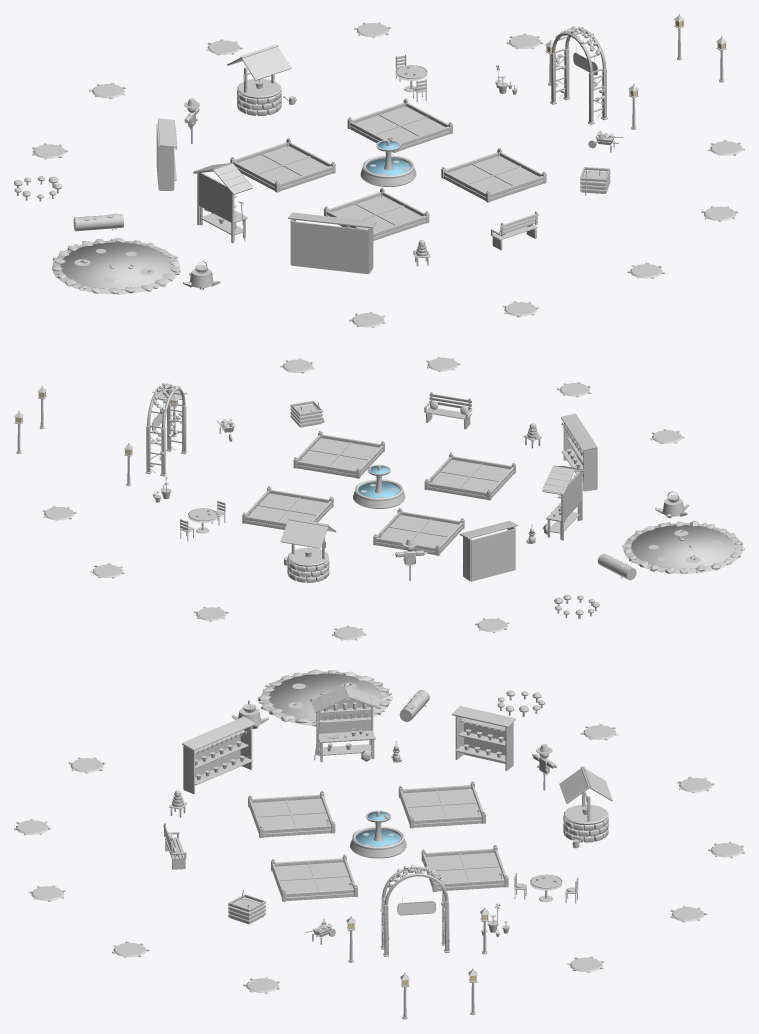
The model's file is zon_garden.glb.
3 views of the same model, one above another, from view 1: azimuth 30°, elevation 25°; view 2: azimuth 150°, elevation 25°; view 3: azimuth 270°, elevation 25° (orthographic). The views are drawn at different scales.
Visible parts, largest first — view 1: SM_zon_garden_kit_garden_xm1_z0_LOD0, SM_zon_garden_garden_water_xm1_z0; view 2: SM_zon_garden_kit_garden_xm1_z0_LOD0, SM_zon_garden_garden_water_xm1_z0; view 3: SM_zon_garden_kit_garden_xm1_z0_LOD0, SM_zon_garden_garden_water_xm1_z0.
Boxes of the visible parts, box(x1,y1,x2,y2) form: SM_zon_garden_kit_garden_xm1_z0_LOD0: box(14, 14, 744, 327); SM_zon_garden_garden_water_xm1_z0: box(366, 141, 410, 175); SM_zon_garden_kit_garden_xm1_z0_LOD0: box(14, 356, 744, 640); SM_zon_garden_garden_water_xm1_z0: box(358, 465, 400, 498); SM_zon_garden_kit_garden_xm1_z0_LOD0: box(14, 669, 744, 1019); SM_zon_garden_garden_water_xm1_z0: box(355, 811, 400, 846).
Size of the model in its own units: 33.62 by 3.85 by 29.75.
